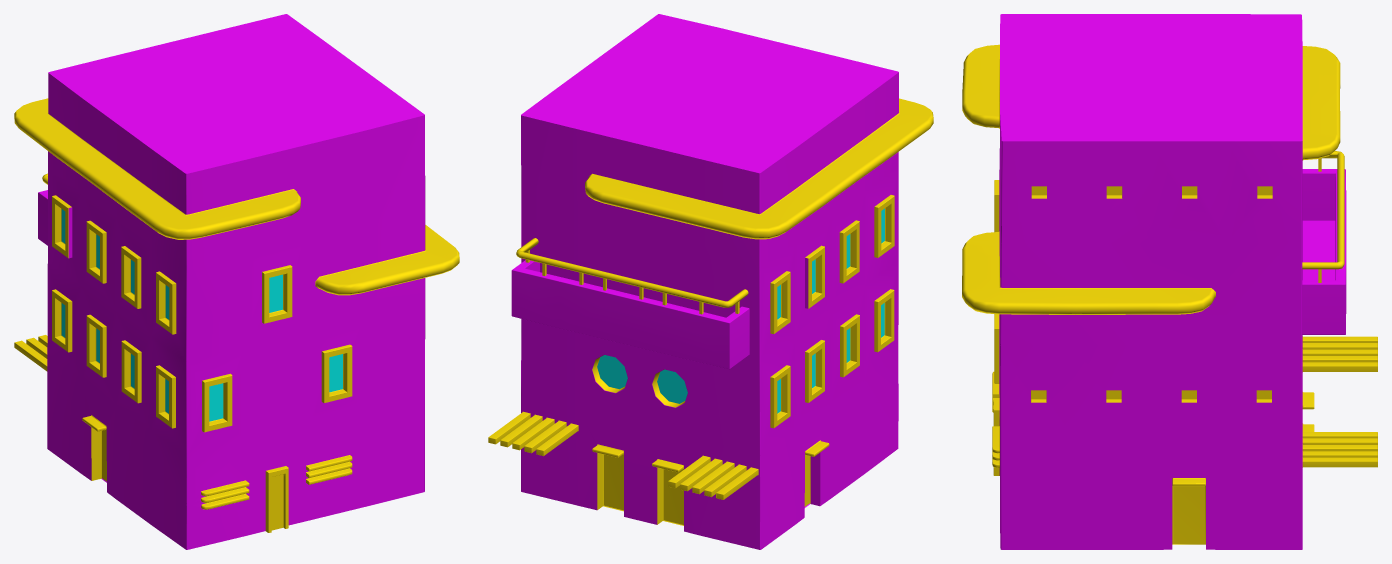
The model's file is B_04_Resized.FBX.
3 views of the same model, side by side, from view 1: azimuth 30°, elevation 25°; view 2: azimuth 150°, elevation 25°; view 3: azimuth 270°, elevation 25° (orthographic). The views are drawn at different scales.
Parts seen in each view (by area): view 1: Batiment_04, Corniche_01, Corniche_02, Bar_Deco_B_04, Balcon_B_04; view 2: Batiment_04, Balcon_B_04, Corniche_01, Bar_Deco_B_04; view 3: Batiment_04, Corniche_02, Balcon_B_04, Corniche_01, Bar_Deco_B_04.
Boxes of the visible parts, bbox=[...] form: Batiment_04: bbox=[47, 14, 425, 549]; Corniche_01: bbox=[14, 98, 300, 239]; Corniche_02: bbox=[315, 225, 459, 295]; Bar_Deco_B_04: bbox=[14, 335, 47, 371]; Balcon_B_04: bbox=[38, 173, 47, 245]; Batiment_04: bbox=[521, 14, 898, 549]; Balcon_B_04: bbox=[511, 238, 749, 369]; Corniche_01: bbox=[585, 98, 933, 239]; Bar_Deco_B_04: bbox=[488, 411, 758, 499]; Batiment_04: bbox=[992, 14, 1314, 549]; Corniche_02: bbox=[962, 231, 1215, 314]; Balcon_B_04: bbox=[1302, 151, 1346, 334]; Corniche_01: bbox=[962, 44, 1340, 160]; Bar_Deco_B_04: bbox=[1302, 336, 1377, 467].
Bounding box in the file's own units: 1097 × 1312 × 1210.
